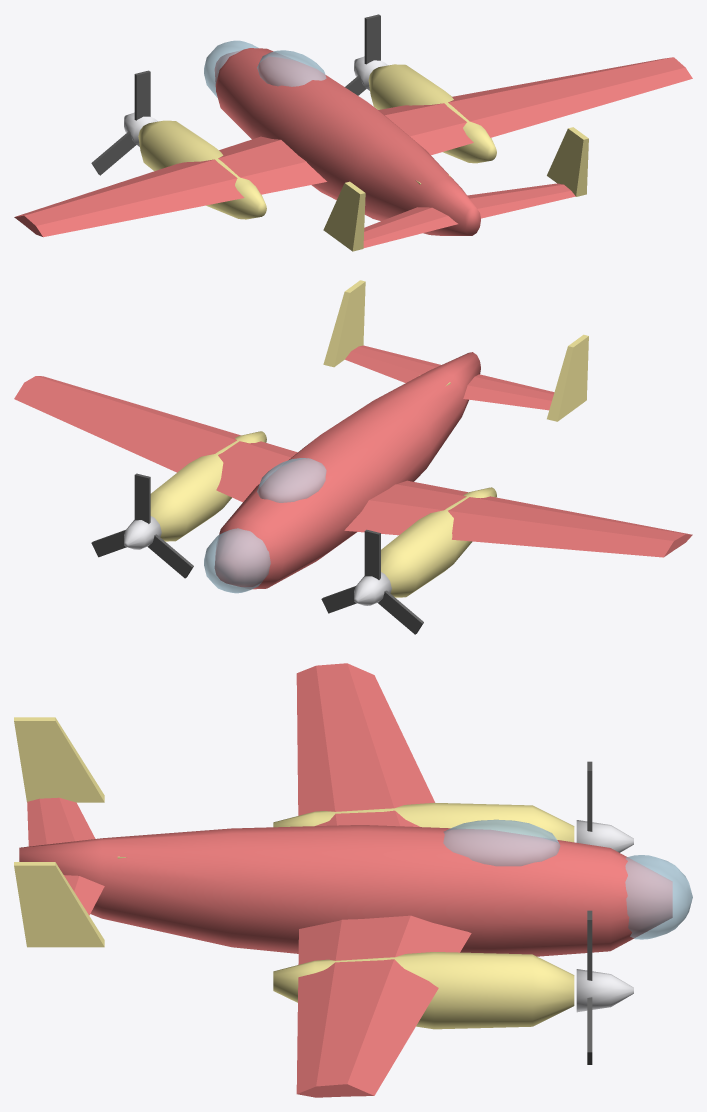
The model's file is plane_bomber.glb.
3 renders of one model, top to bottom at view 1: azimuth 30°, elevation 25°; view 2: azimuth 150°, elevation 25°; view 3: azimuth 270°, elevation 25°, orthographic. The views are drawn at different scales.
Parts seen in each view (by area): view 1: Bomber_Body, Bomber_Glass, Prop_Bomber_L, Prop_Bomber_R; view 2: Bomber_Body, Bomber_Glass, Prop_Bomber_L, Prop_Bomber_R; view 3: Bomber_Body, Bomber_Glass, Prop_Bomber_R, Prop_Bomber_L.
Part boxes in pixels (left/top/right/bottom): Bomber_Body: left=14, top=48, right=692, bottom=251; Bomber_Glass: left=204, top=40, right=326, bottom=97; Prop_Bomber_L: left=91, top=70, right=157, bottom=175; Prop_Bomber_R: left=345, top=14, right=387, bottom=95; Bomber_Body: left=14, top=280, right=692, bottom=597; Bomber_Glass: left=204, top=458, right=326, bottom=593; Prop_Bomber_L: left=321, top=529, right=423, bottom=634; Prop_Bomber_R: left=91, top=473, right=193, bottom=578; Bomber_Body: left=14, top=663, right=672, bottom=1097; Bomber_Glass: left=443, top=819, right=692, bottom=939; Prop_Bomber_R: left=576, top=910, right=633, bottom=1064; Prop_Bomber_L: left=576, top=761, right=633, bottom=852.
Bounding box in the file's own units: 19.2 × 3.63 × 13.09.
